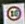limite 30: (6, 5, 21, 20)
